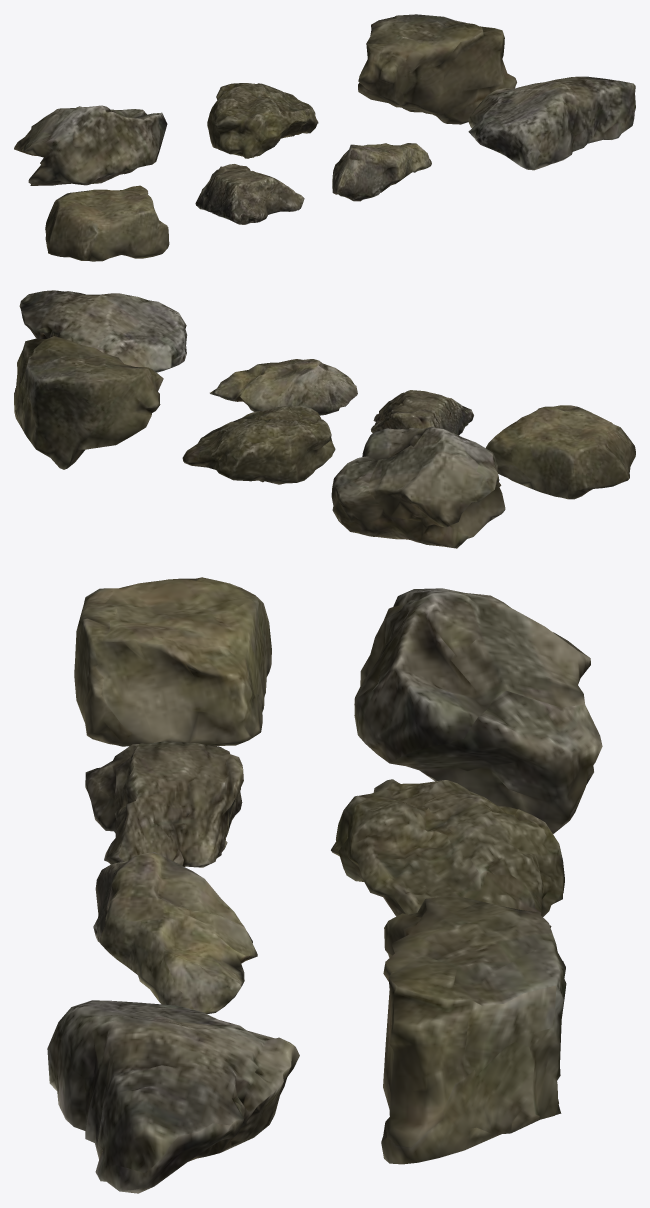
Rendered from rock_moss_set_02.glb.
3 views of the same model, one above another, from view 1: azimuth 30°, elevation 25°; view 2: azimuth 150°, elevation 25°; view 3: azimuth 270°, elevation 25° (orthographic). The views are drawn at different scales.
Parts seen in each view (by area): view 1: rock_moss_set_02_rock13, rock_moss_set_02_rock10, rock_moss_set_02_rock11, rock_moss_set_02_rock07, rock_moss_set_02_rock12, rock_moss_set_02_rock08, rock_moss_set_02_rock09; view 2: rock_moss_set_02_rock11, rock_moss_set_02_rock13, rock_moss_set_02_rock07, rock_moss_set_02_rock10, rock_moss_set_02_rock12, rock_moss_set_02_rock09, rock_moss_set_02_rock08; view 3: rock_moss_set_02_rock13, rock_moss_set_02_rock11, rock_moss_set_02_rock10, rock_moss_set_02_rock07, rock_moss_set_02_rock12, rock_moss_set_02_rock09, rock_moss_set_02_rock08.
Part boxes in pixels (bbox=[...]): rock_moss_set_02_rock13: bbox=[358, 14, 516, 124]; rock_moss_set_02_rock10: bbox=[468, 76, 635, 170]; rock_moss_set_02_rock11: bbox=[14, 105, 167, 185]; rock_moss_set_02_rock07: bbox=[45, 185, 169, 261]; rock_moss_set_02_rock12: bbox=[207, 83, 318, 158]; rock_moss_set_02_rock08: bbox=[195, 164, 304, 224]; rock_moss_set_02_rock09: bbox=[332, 143, 431, 201]; rock_moss_set_02_rock11: bbox=[331, 426, 505, 548]; rock_moss_set_02_rock13: bbox=[14, 336, 163, 469]; rock_moss_set_02_rock07: bbox=[486, 405, 635, 499]; rock_moss_set_02_rock10: bbox=[19, 290, 187, 372]; rock_moss_set_02_rock12: bbox=[182, 406, 335, 484]; rock_moss_set_02_rock09: bbox=[210, 359, 357, 415]; rock_moss_set_02_rock08: bbox=[371, 390, 473, 435]; rock_moss_set_02_rock13: bbox=[381, 895, 566, 1164]; rock_moss_set_02_rock11: bbox=[354, 588, 602, 833]; rock_moss_set_02_rock10: bbox=[47, 1000, 299, 1193]; rock_moss_set_02_rock07: bbox=[74, 577, 271, 746]; rock_moss_set_02_rock12: bbox=[331, 779, 564, 927]; rock_moss_set_02_rock09: bbox=[93, 852, 257, 1013]; rock_moss_set_02_rock08: bbox=[85, 741, 243, 867].
Size of the model in its own units: 8.28 by 1.36 by 3.41.
1 material, 1 textured.
